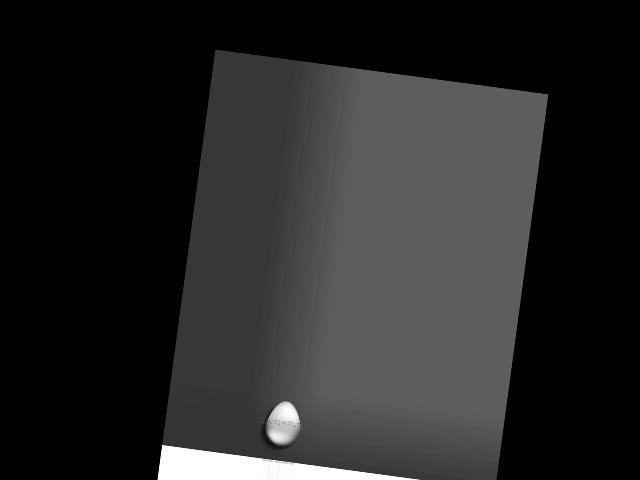egg: (263, 398, 303, 447)
